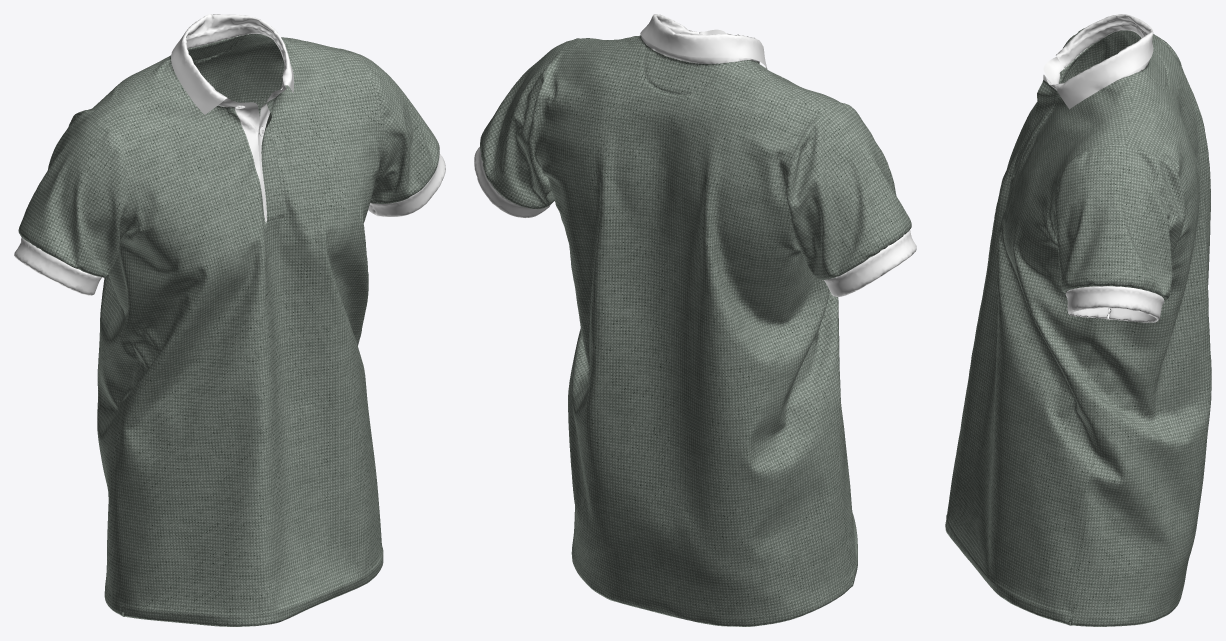
Rendered from tshirt2.glb.
The picture shows the model from 3 angles, left to right: view 1: azimuth 30°, elevation 25°; view 2: azimuth 150°, elevation 25°; view 3: azimuth 270°, elevation 25°; orthographic projection. The views are drawn at different scales.
Parts seen in each view (by area): view 1: Polo Shirt_1; view 2: Polo Shirt_1; view 3: Polo Shirt_1.
Boxes of the visible parts, left/top/right/bottom form: Polo Shirt_1: left=14, top=14, right=445, bottom=626; Polo Shirt_1: left=474, top=14, right=916, bottom=626; Polo Shirt_1: left=945, top=14, right=1211, bottom=626.
Bounding box in the file's own units: 0.6059 × 0.7693 × 0.3374.
4 materials, 2 textured.
